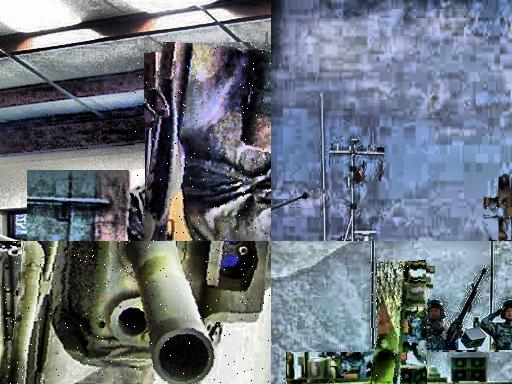tanks: (9, 242, 272, 384), (141, 44, 272, 242), (372, 262, 427, 384), (485, 197, 512, 219)
